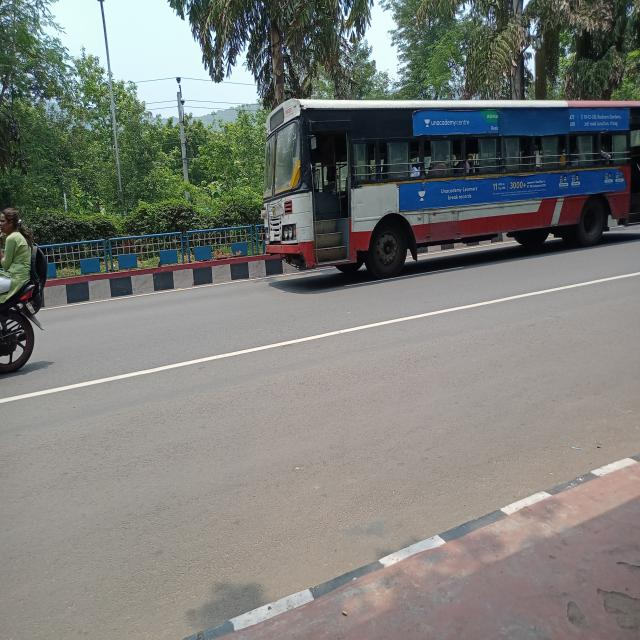bus: (242, 90, 640, 278)
